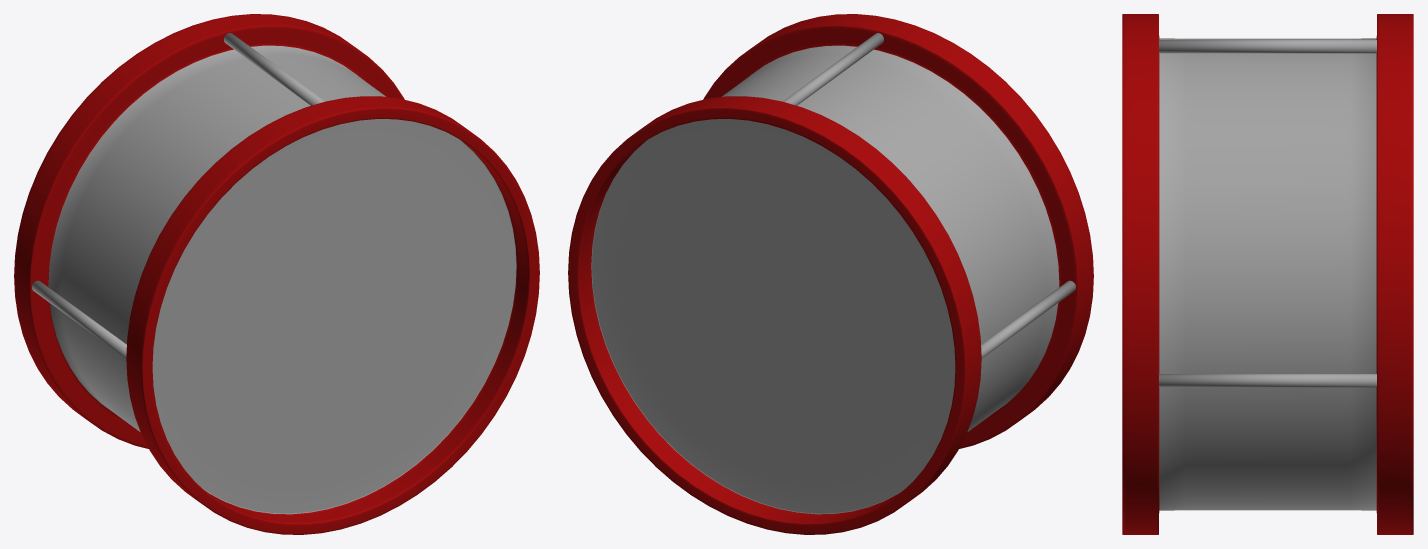
The model's file is Drum.dae.
3 views of the same model, side by side, from view 1: azimuth 30°, elevation 25°; view 2: azimuth 150°, elevation 25°; view 3: azimuth 270°, elevation 25° (orthographic). The views are drawn at different scales.
Visible parts, largest first — view 1: Drum_Body; view 2: Drum_Body; view 3: Drum_Body.
Boxes of the visible parts, bbox=[...] form: Drum_Body: bbox=[14, 14, 539, 534]; Drum_Body: bbox=[568, 14, 1093, 534]; Drum_Body: bbox=[1122, 14, 1413, 534].
Bounding box in the file's own units: 0.1099 × 0.0615 × 0.1099.
